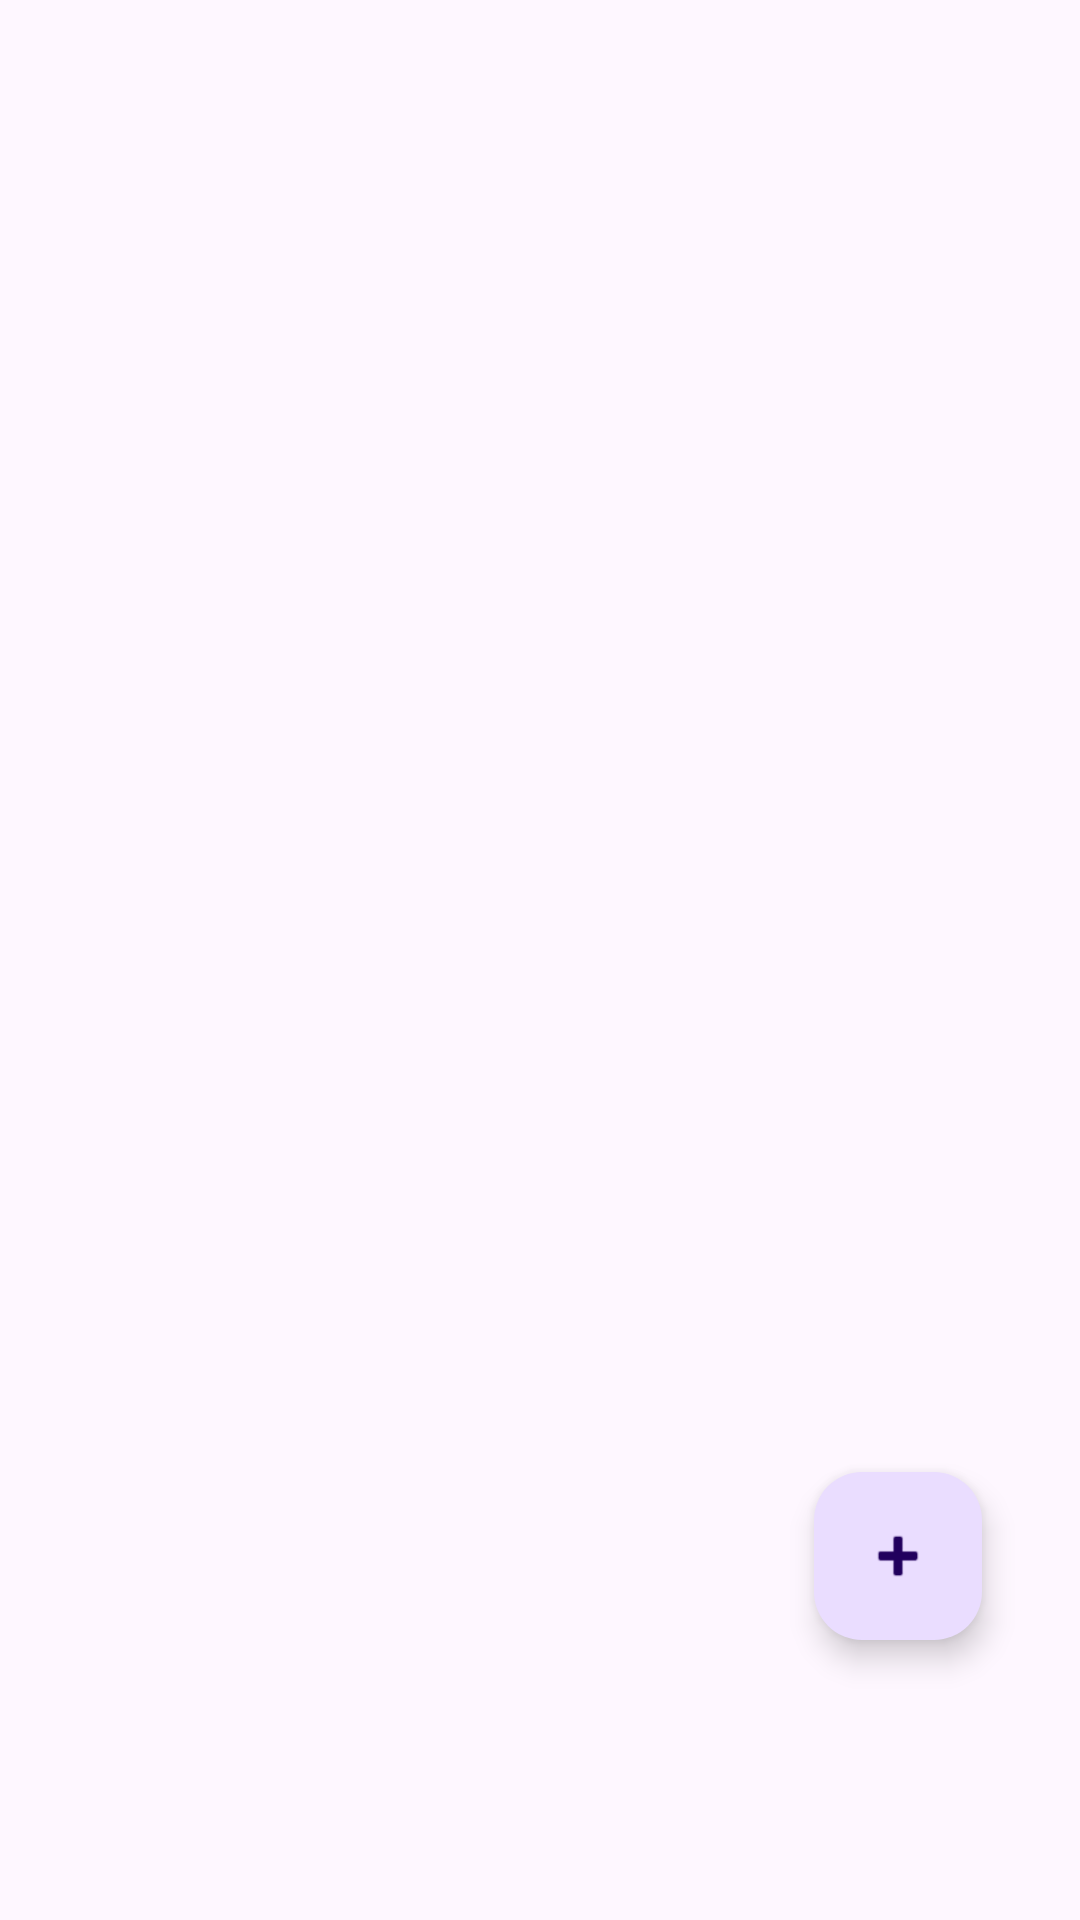

Named icons in this screenshot (1080w x 1920h) and their bounding boxes, (x1, y1, x2, y2):
add: (814, 1472, 982, 1640)
